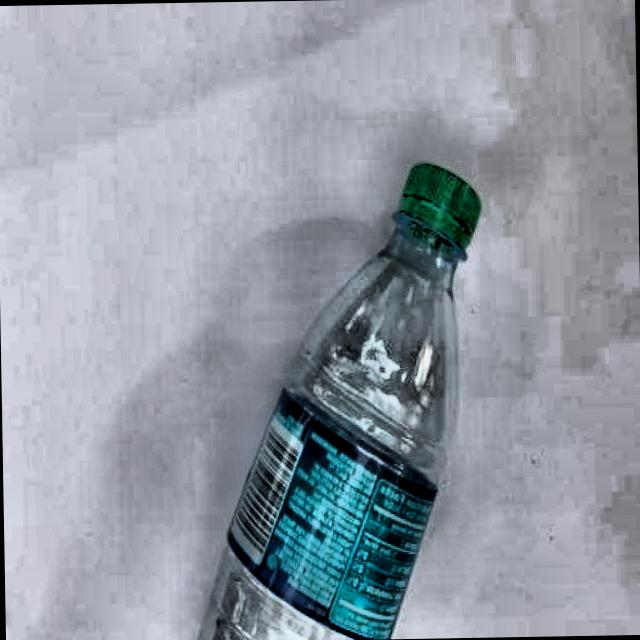plastic bottle: (201, 162, 482, 640)
